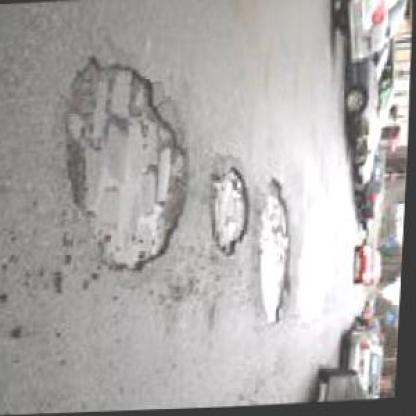pothole: (50, 41, 201, 283), (255, 173, 298, 330), (208, 162, 252, 261)
